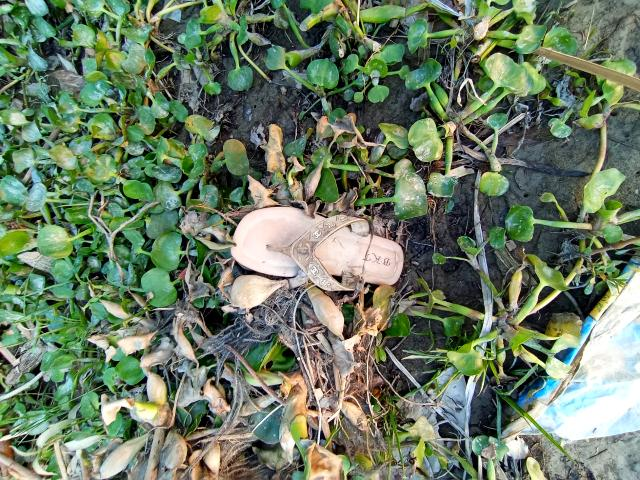sandal: (229, 196, 416, 306)
